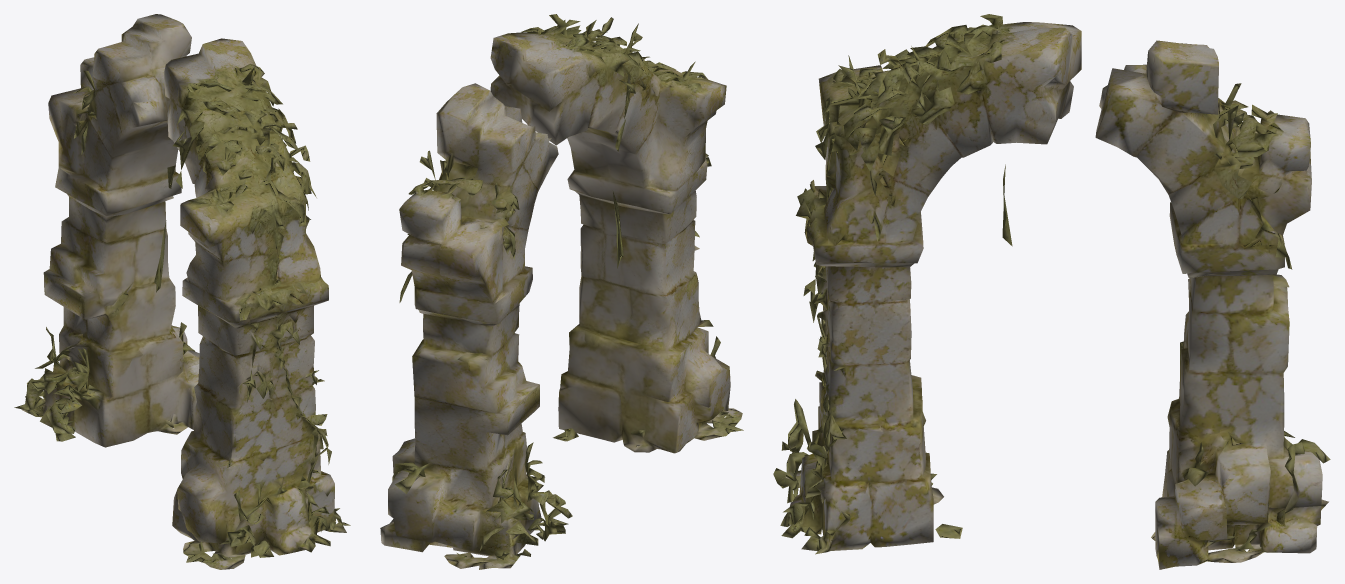
The model's file is raw.glb.
3 views of the same model, side by side, from view 1: azimuth 30°, elevation 25°; view 2: azimuth 150°, elevation 25°; view 3: azimuth 270°, elevation 25° (orthographic). The views are drawn at different scales.
Parts seen in each view (by area): view 1: tripo_node_aa9f669c-0c89-4e11-bd5a-f14bd58da64e; view 2: tripo_node_aa9f669c-0c89-4e11-bd5a-f14bd58da64e; view 3: tripo_node_aa9f669c-0c89-4e11-bd5a-f14bd58da64e.
Boxes of the visible parts, box(x1,y1,x2,y2) form: tripo_node_aa9f669c-0c89-4e11-bd5a-f14bd58da64e: box(14, 14, 350, 569); tripo_node_aa9f669c-0c89-4e11-bd5a-f14bd58da64e: box(380, 14, 743, 569); tripo_node_aa9f669c-0c89-4e11-bd5a-f14bd58da64e: box(773, 14, 1330, 569).
Bounding box in the file's own units: 0.442 × 1 × 0.9933.
Materials: 1 (1 with a texture image).
